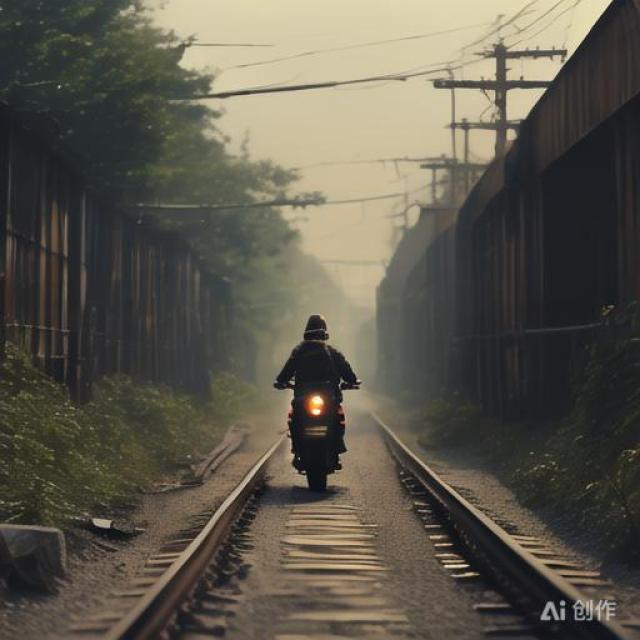vehicle: (269, 311, 365, 504)
